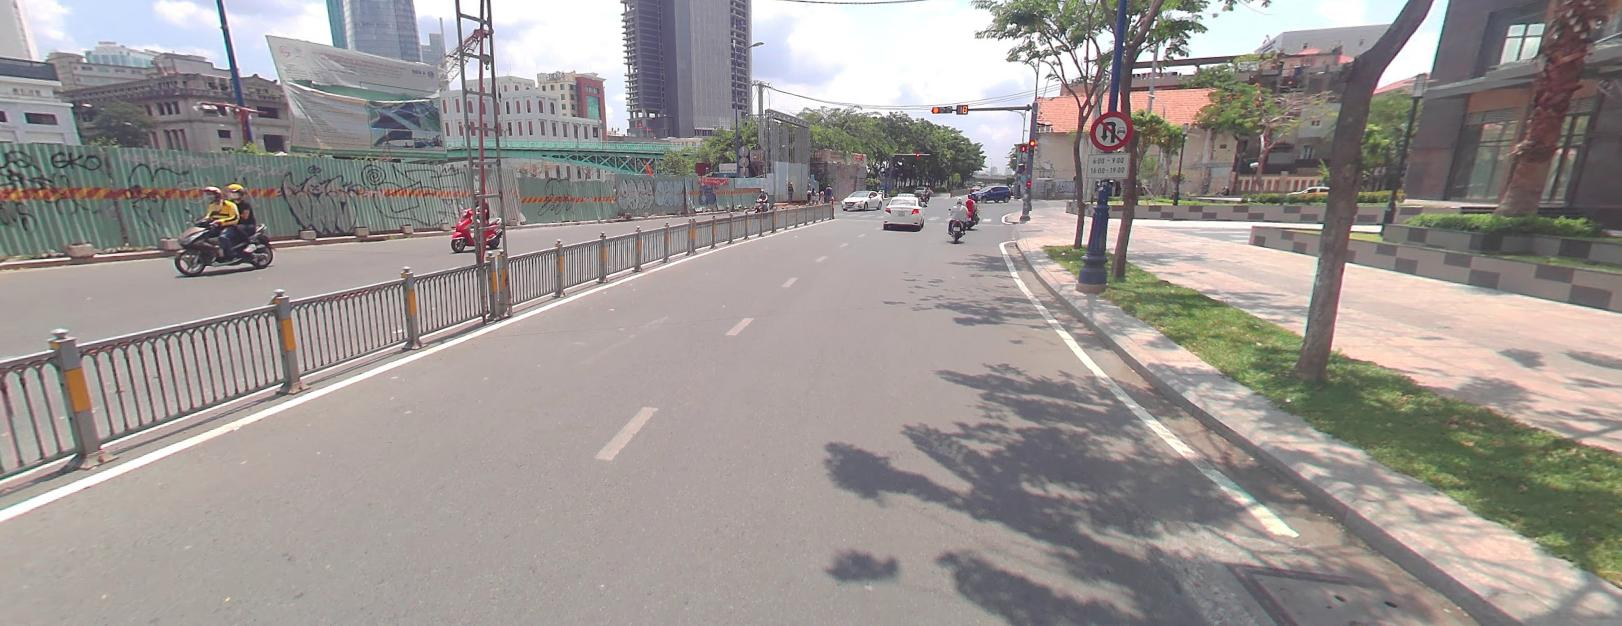Cam re: (1090, 110, 1132, 150)
